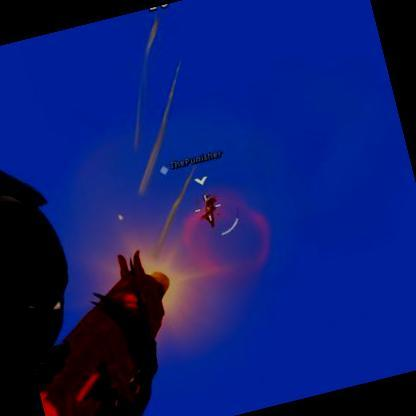person: (199, 194, 222, 229)
